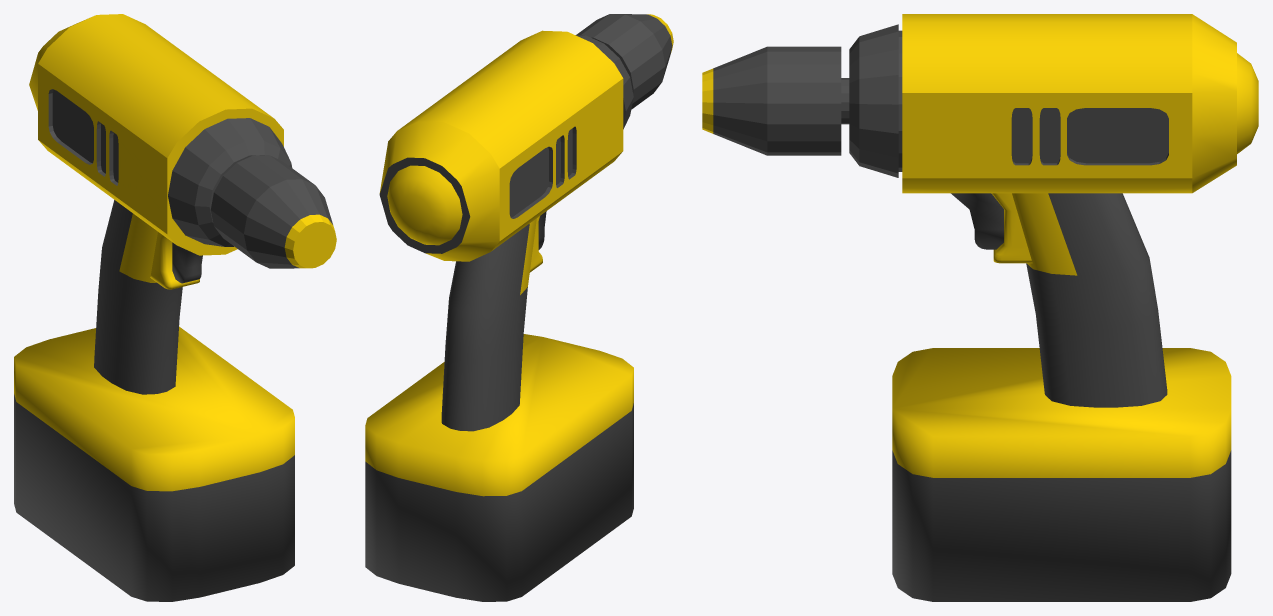
File: AutomaticDrill.fbx
The picture shows the model from 3 angles, left to right: view 1: azimuth 30°, elevation 25°; view 2: azimuth 150°, elevation 25°; view 3: azimuth 270°, elevation 25°; orthographic projection. The views are drawn at different scales.
Visible parts, largest first — view 1: Trigger_Main; view 2: Trigger_Main; view 3: Trigger_Main.
Boxes of the visible parts, x1,y1,x2,y2 form: Trigger_Main: [14, 14, 336, 601]; Trigger_Main: [365, 14, 673, 601]; Trigger_Main: [702, 14, 1258, 601].
Bounding box in the file's own units: 6.9 × 19.48 × 18.35.
